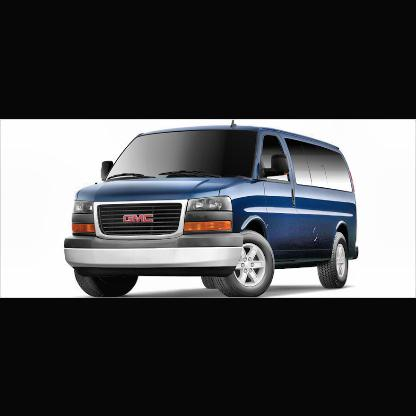GMC Savana Van 2012: (65, 120, 359, 298)
